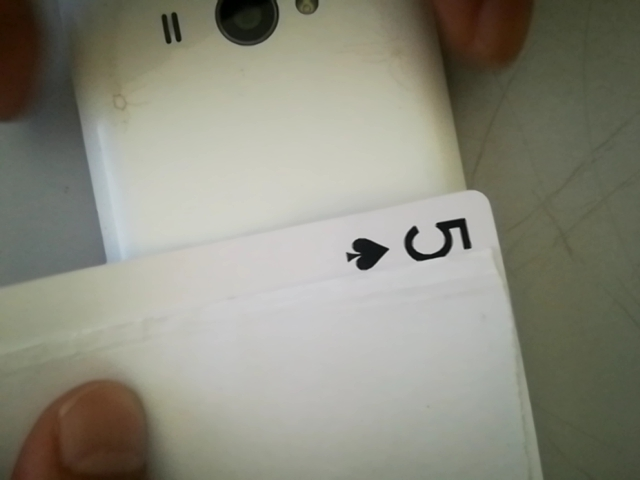ht 5: (342, 209, 480, 279)
